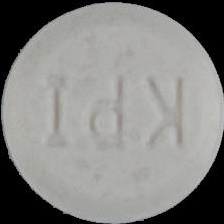54868-5058: (0, 0, 224, 224)
